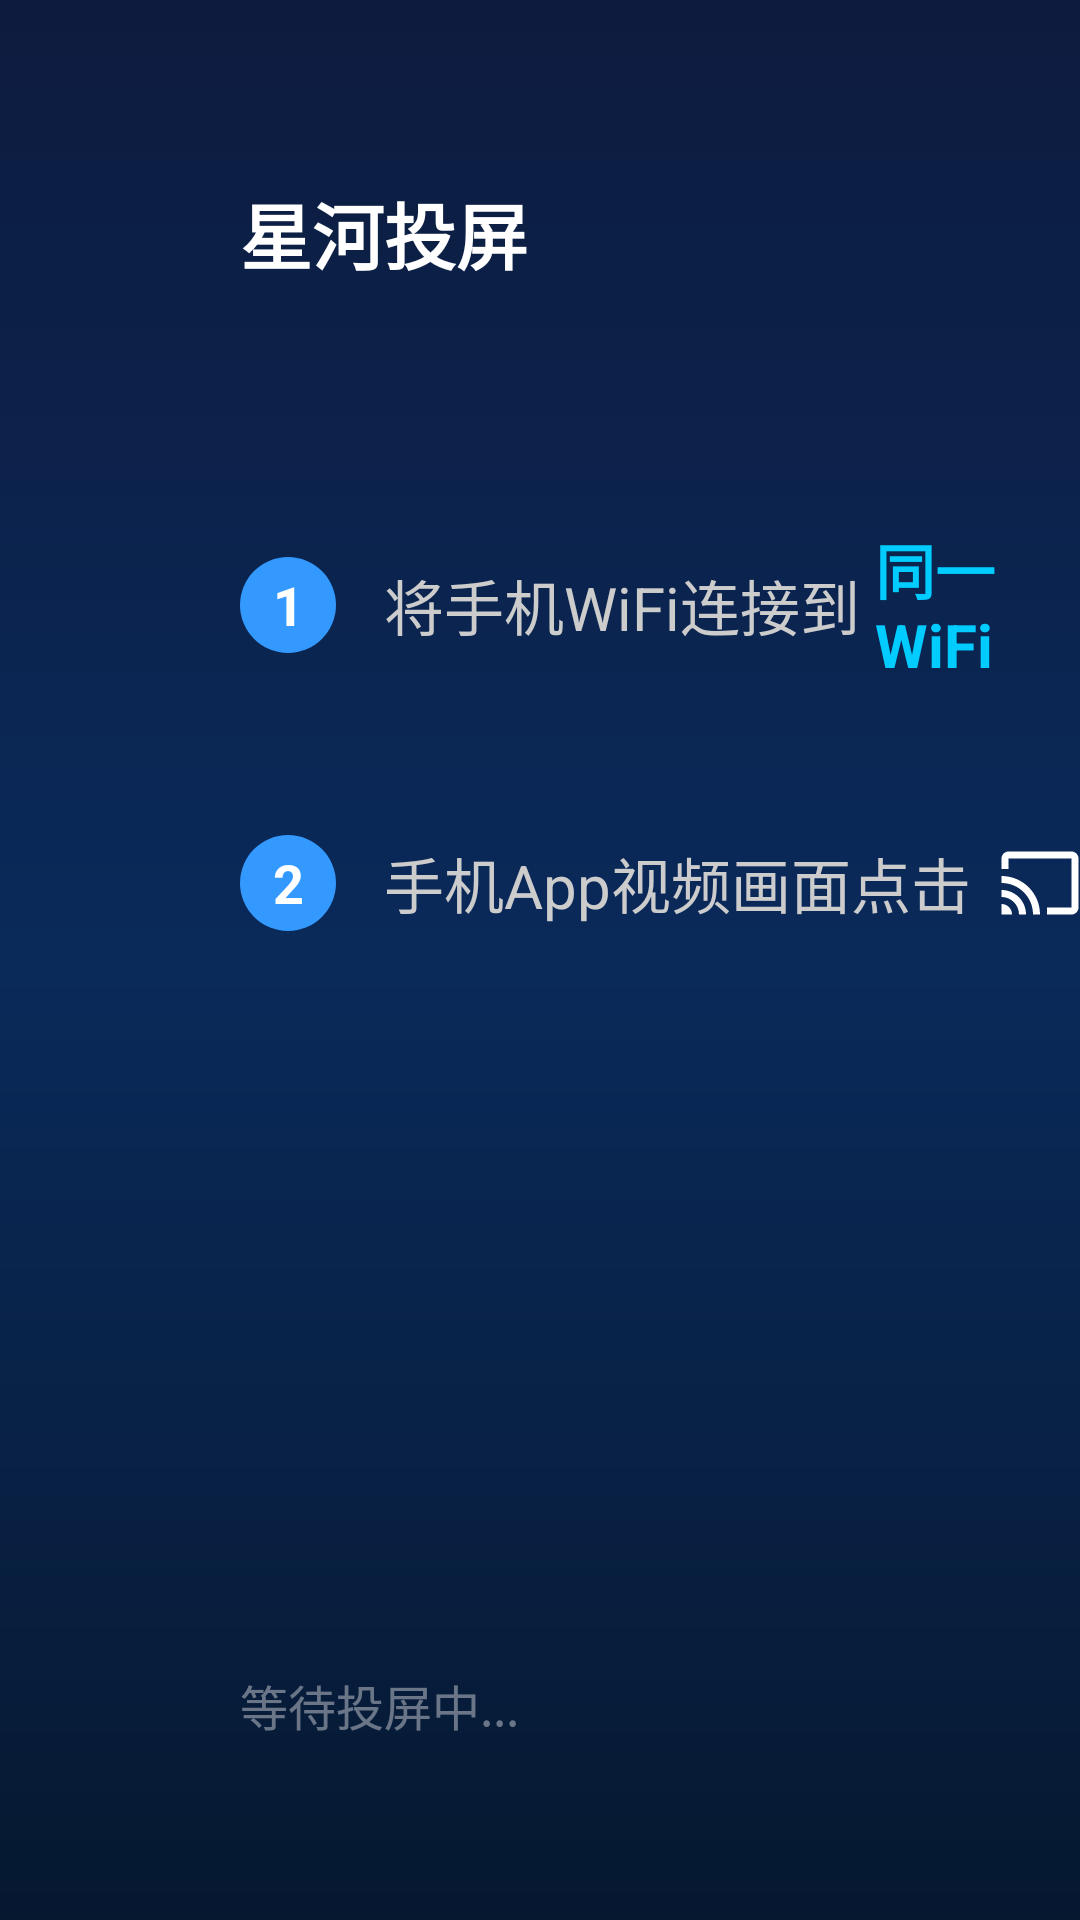

Icon click points for this 1080*1920 phone screenshot, format [x,y]:
cast: [1040,883]
